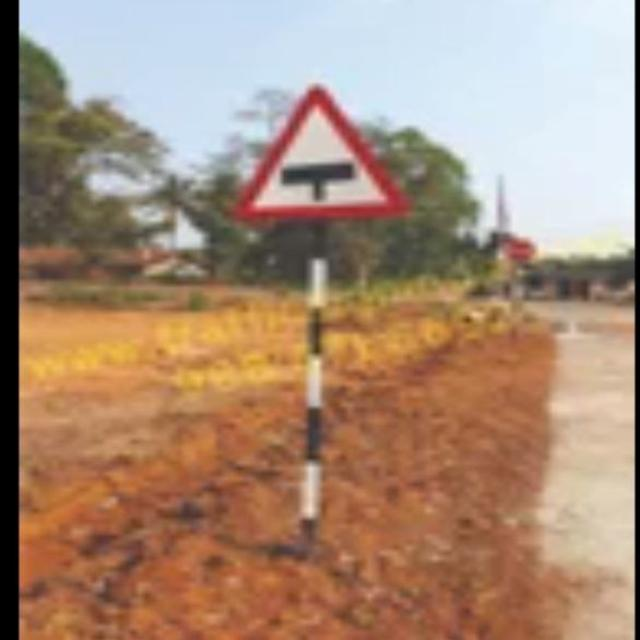tjunction_major_road_ahead: (221, 79, 416, 263)
